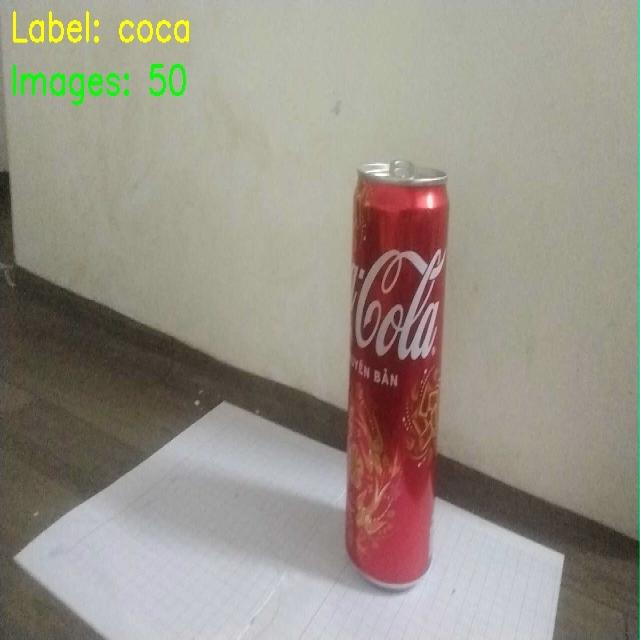Coca: (328, 128, 474, 601)
